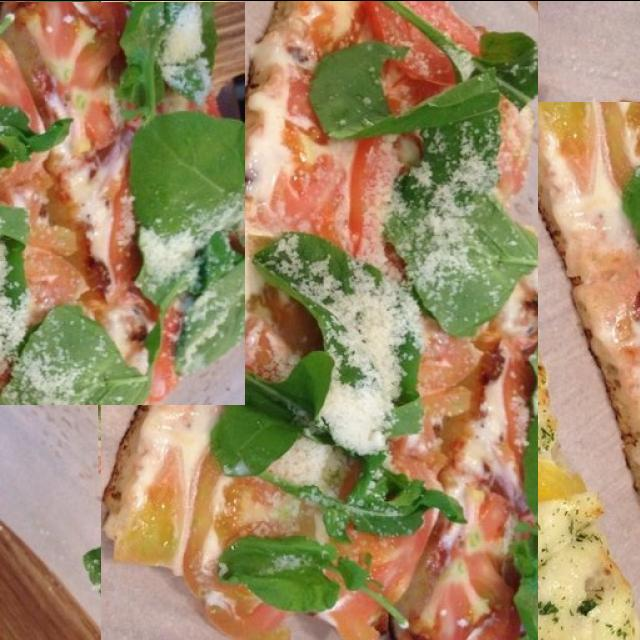basil: (216, 205, 386, 407), (98, 305, 253, 473), (136, 472, 330, 598), (82, 528, 264, 640), (227, 12, 423, 110), (173, 99, 382, 184), (304, 162, 432, 292), (0, 111, 113, 257), (26, 0, 130, 116), (0, 231, 70, 376)
pizza: (101, 0, 538, 640), (411, 101, 640, 640), (0, 1, 245, 404)
